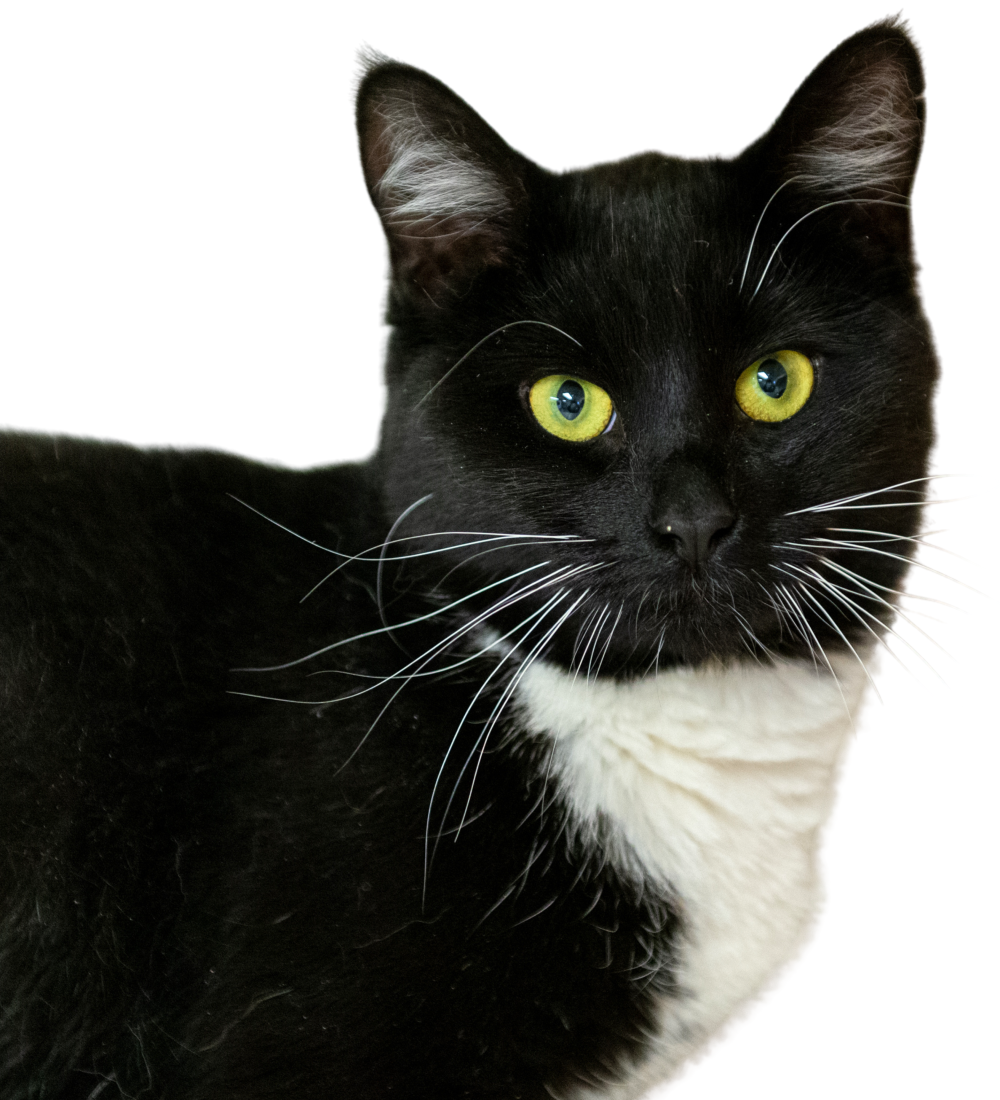Cat: (10, 17, 948, 1096)
